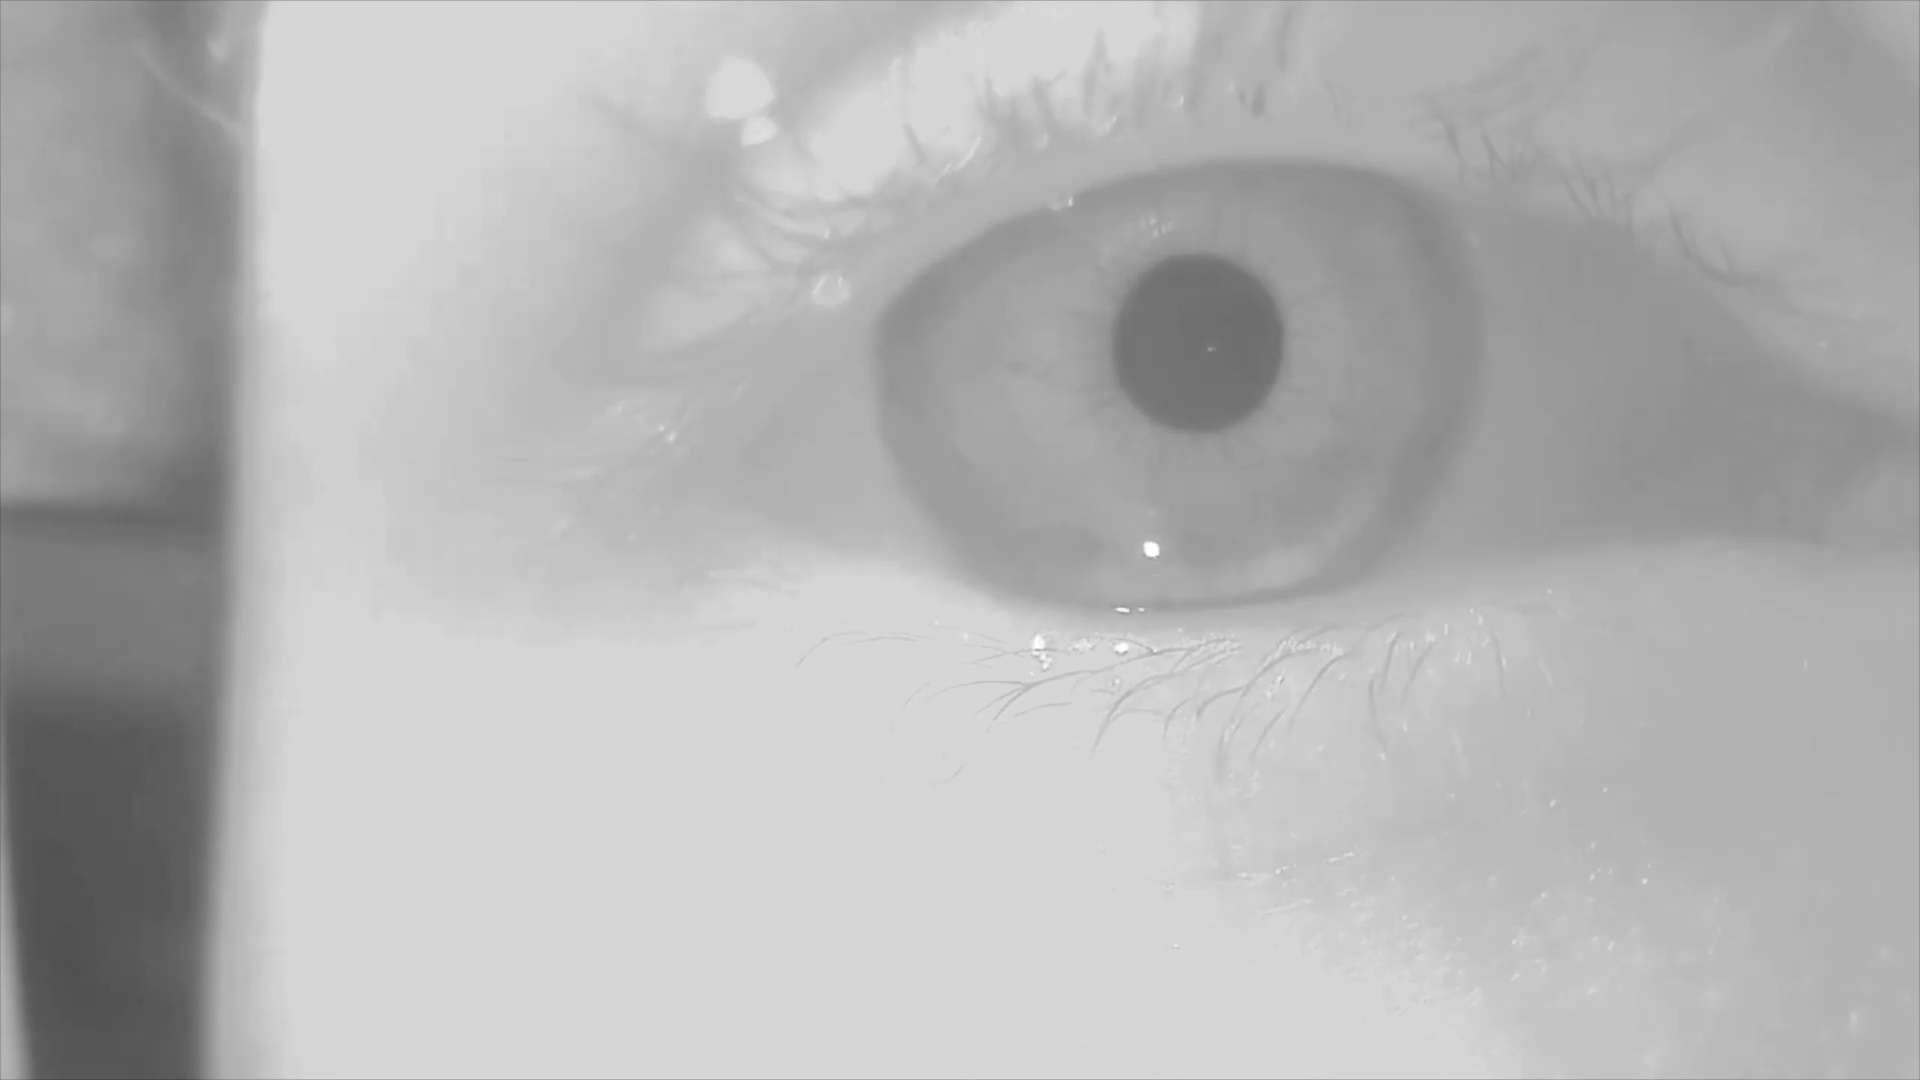pupil: (1113, 257, 1286, 437)
